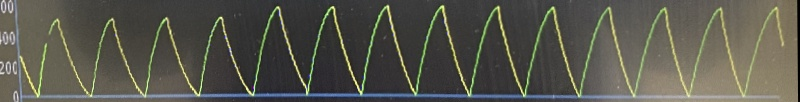normal_volume: (24, 0, 766, 102)
